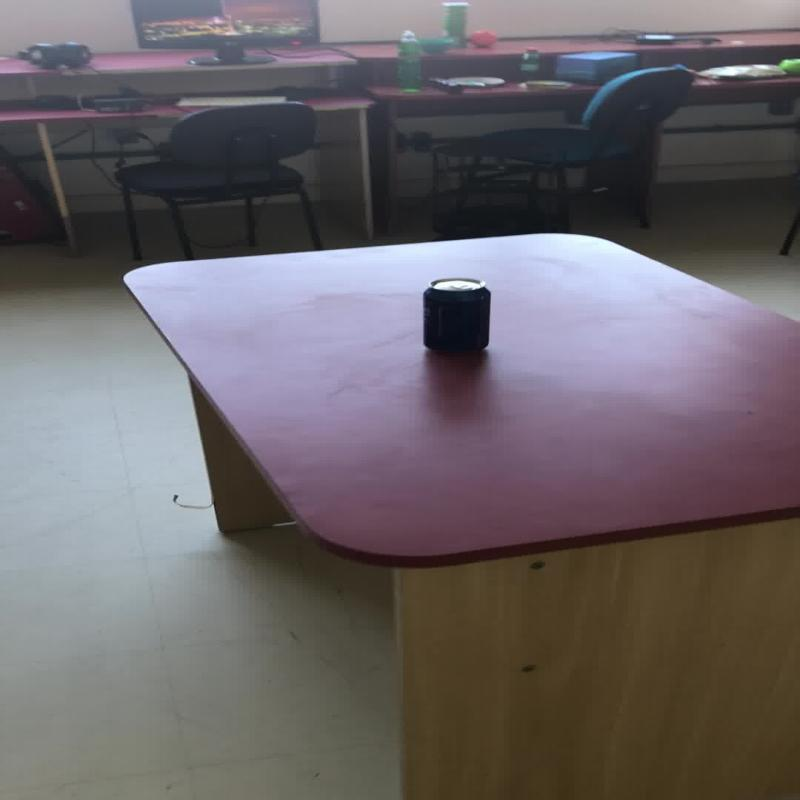tonic: (420, 276, 490, 351), (394, 29, 422, 92), (440, 1, 468, 48), (518, 46, 540, 81)
